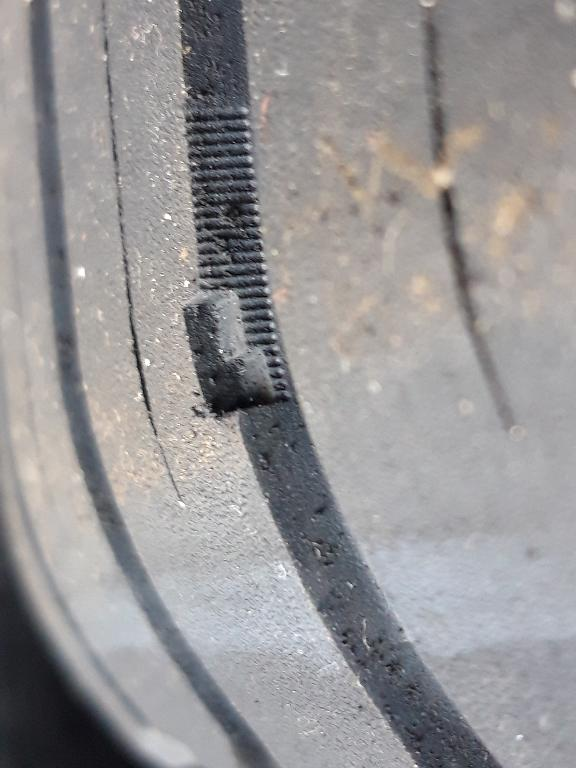temoin:50: (167, 239, 306, 428)
